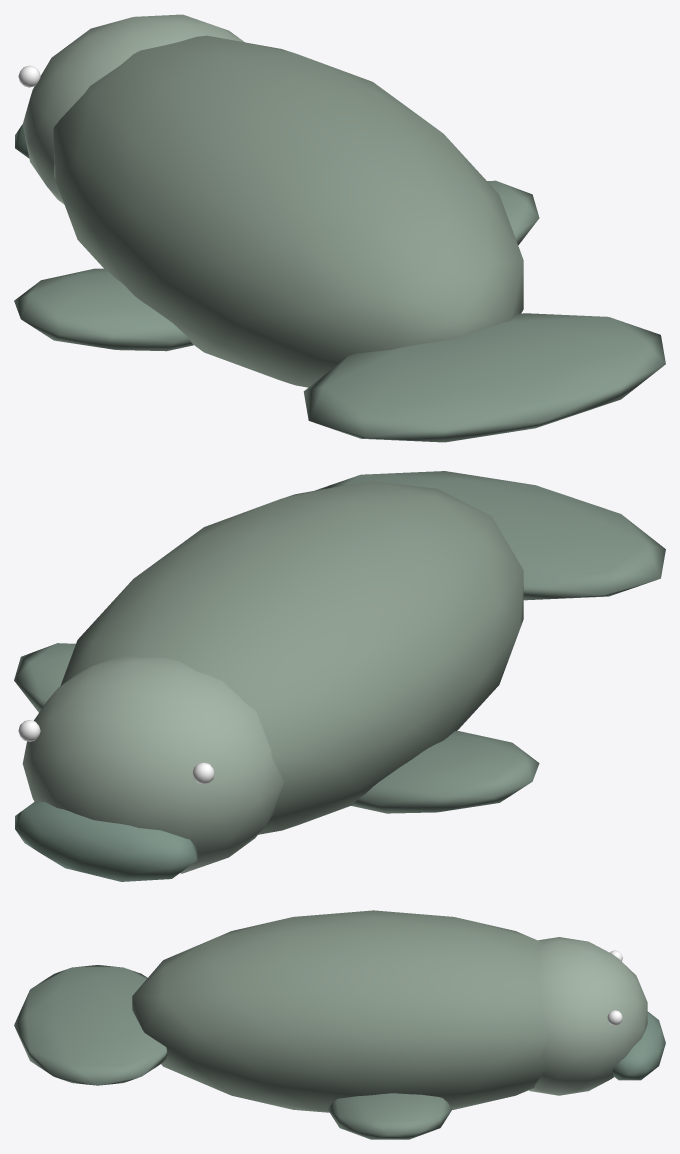
File: manatee.glb
3 renders of one model, top to bottom at view 1: azimuth 30°, elevation 25°; view 2: azimuth 150°, elevation 25°; view 3: azimuth 270°, elevation 25°, orthographic. The views are drawn at different scales.
Bounding box in the file's own units: 2.53 × 1.14 × 3.97.
